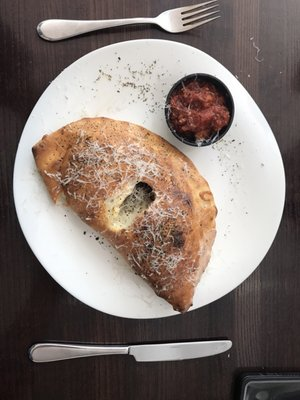burger: (34, 0, 223, 42), (26, 339, 232, 363)
